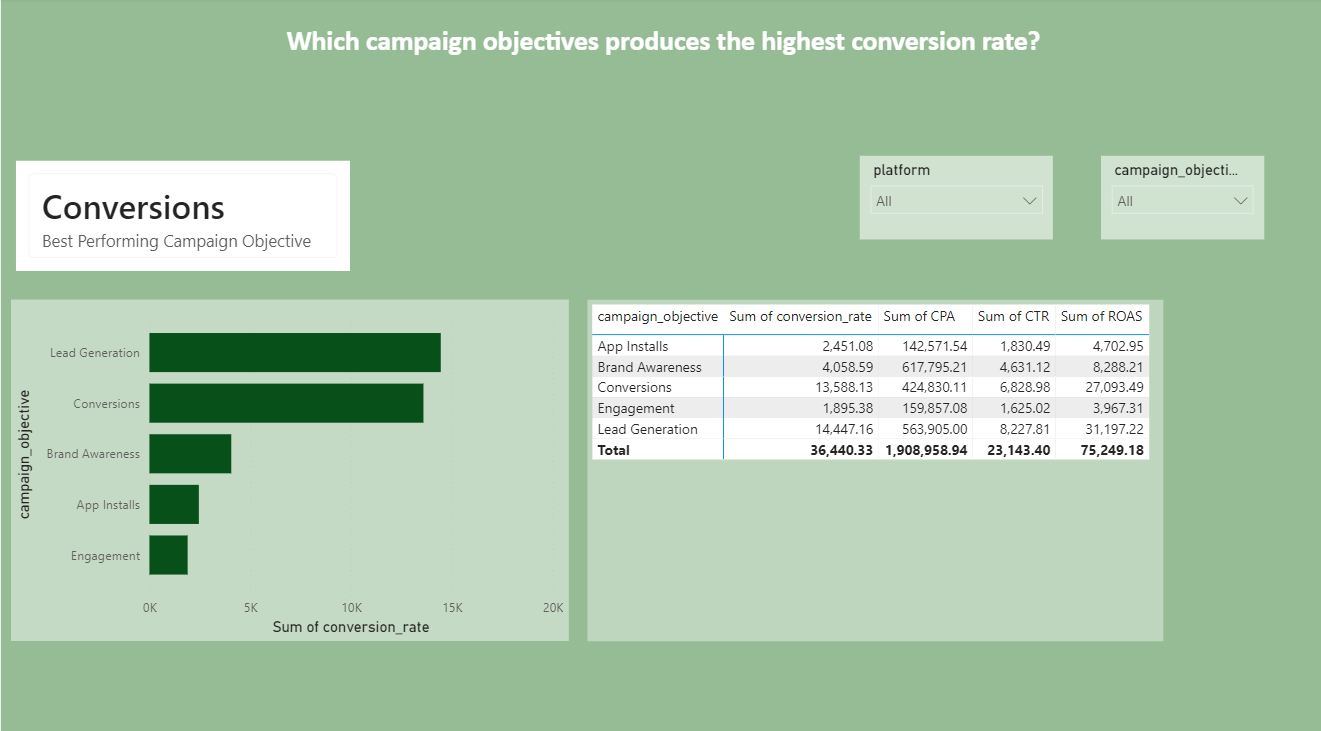

Layout of this report page (visuals, bound fields, positions):
{"tool":"powerbi","page":{"name":"OBJ 5","canvas":[1280,720],"ordinal":5},"visuals":[{"type":"cardVisual","fields":{"Data":["Tech_Project_Wrk.Best Performing Campaign Objective"]},"box":[9.7,153,332.5,116.9],"z":0},{"type":"clusteredBarChart","fields":{"Category":["Tech_Project_Wrk.campaign_objective"],"Y":["Sum(Tech_Project_Wrk.conversion_rate)"]},"box":[9.7,292,538.1,329.4],"z":1000},{"type":"pivotTable","fields":{"Rows":["Tech_Project_Wrk.campaign_objective"],"Values":["Sum(Tech_Project_Wrk.conversion_rate)","Sum(Tech_Project_Wrk.CPA)","Sum(Tech_Project_Wrk.CTR)","Sum(Tech_Project_Wrk.ROAS)"]},"box":[565.8,292,556.2,329.4],"z":2000},{"type":"slicer","fields":{"Values":["Tech_Project_Wrk.campaign_objective"]},"box":[1061.6,153,157.2,80.7],"z":4000},{"type":"textbox","box":[263,20.9,752.7,48.7],"z":6000},{"type":"slicer","fields":{"Values":["Tech_Project_Wrk.platform"]},"box":[829.2,153,186.4,80.7],"z":7000}]}

Visuals, with their boxes in screenshot pixels (x1, y1, x2, y2), scaled from the page's 1280x720 canvas onto the 1321x731 screenshot:
cardVisual - Tech_Project_Wrk.Best Performing Campaign Objective: BBox(10, 155, 353, 274)
clusteredBarChart - Tech_Project_Wrk.campaign_objective x Sum(Tech_Project_Wrk.conversion_rate): BBox(10, 296, 565, 631)
pivotTable - Tech_Project_Wrk.campaign_objective x Sum(Tech_Project_Wrk.conversion_rate): BBox(584, 296, 1158, 631)
slicer - Tech_Project_Wrk.campaign_objective: BBox(1096, 155, 1258, 237)
textbox: BBox(271, 21, 1048, 71)
slicer - Tech_Project_Wrk.platform: BBox(856, 155, 1048, 237)
